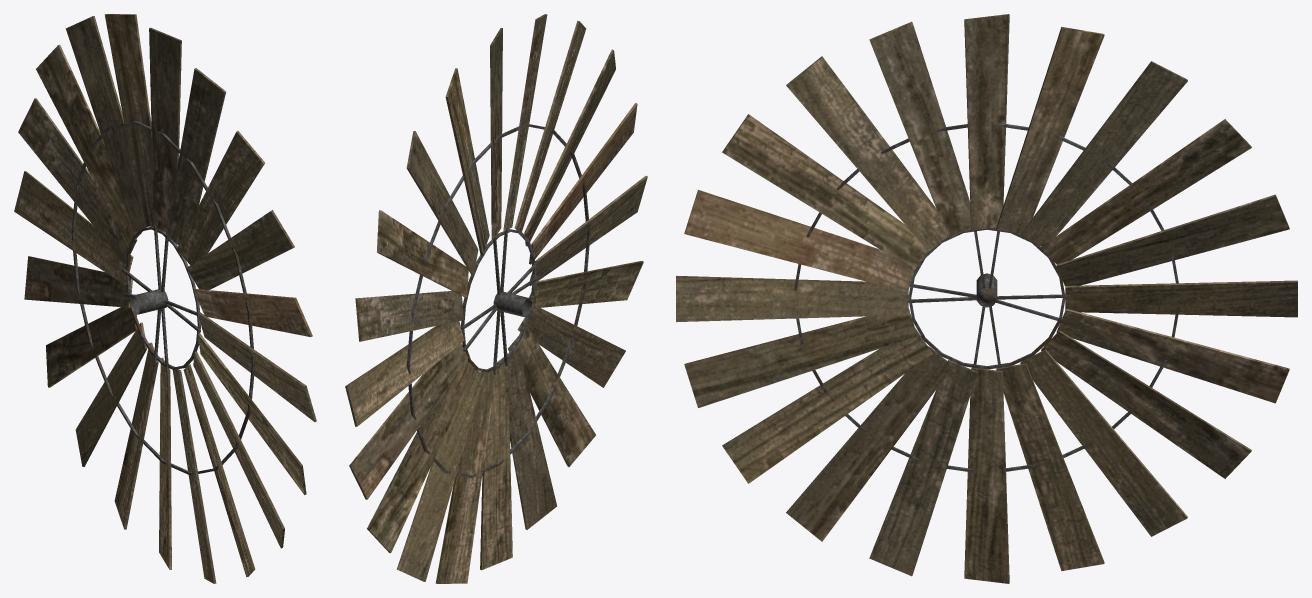
Rendered from baling_baling_windmill.glb.
3 views of the same model, side by side, from view 1: azimuth 30°, elevation 25°; view 2: azimuth 150°, elevation 25°; view 3: azimuth 270°, elevation 25° (orthographic). The views are drawn at different scales.
Parts seen in each view (by area): view 1: Windmill_Windmill_MAT_0.185; view 2: Windmill_Windmill_MAT_0.185; view 3: Windmill_Windmill_MAT_0.185.
Part boxes in pixels (x1=…): Windmill_Windmill_MAT_0.185: x1=14, y1=14, x2=316, y2=583; Windmill_Windmill_MAT_0.185: x1=345, y1=14, x2=647, y2=583; Windmill_Windmill_MAT_0.185: x1=676, y1=14, x2=1297, y2=583.
Bounding box in the file's own units: 17.2 × 236 × 236.
Materials: 1 (1 with a texture image).
